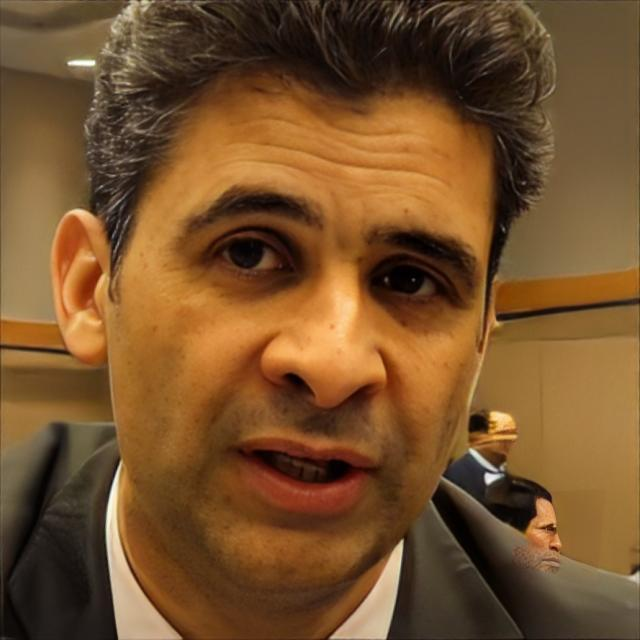surprise: (107, 64, 498, 596)
